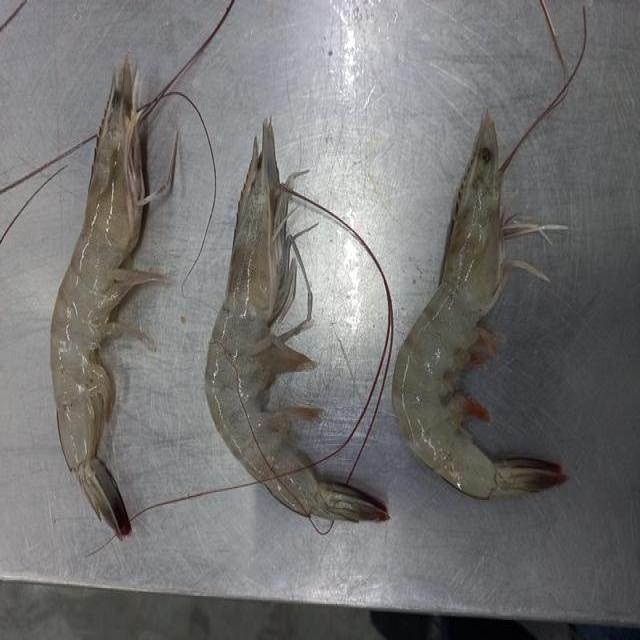shrimp: (205, 120, 389, 521), (392, 113, 566, 498), (51, 58, 165, 538)
